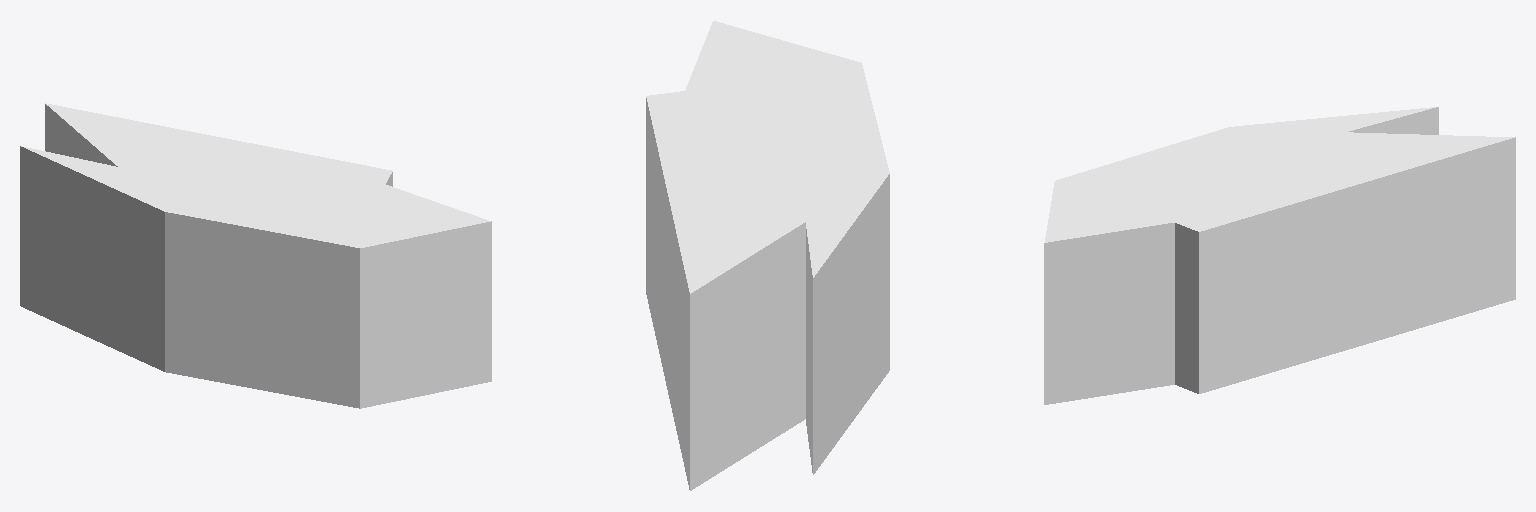
robot.urdf — 3:
<?xml version="1.0" ?>
<robot name="3">
  <link concave="yes" name="baseLink">
    <contact>
    	<friction_anchor/>
    	   <lateral_friction value="1.0"/>
    </contact>
    <inertial>
      <origin rpy="0 0 0" xyz="0 0 0"/>
       <!-- mass controls penetration -->
       <mass value=".1"/>
       <inertia ixx="1e-4" ixy="0" ixz="0" iyy="1e-4" iyz="0" izz="1e-4"/>
    </inertial>
    <visual>
      <origin rpy="0 0 0" xyz="0 0 0"/>
      <geometry>
        <mesh filename="package://object_datasets/Tandem2D/meshes/3.obj"/>
      </geometry>
       <material name="white">
        <color rgba="1 1 1 1"/>
      </material>
    </visual>
    <collision>
      <origin rpy="0 0 0" xyz="0 0 0"/>
      <geometry>
        <mesh filename="package://object_datasets/Tandem2D/meshes/3.obj"/>
      </geometry>
    </collision>
  </link>
</robot>

--- What the picture shows (computed from the rendered views, not written in the file) ---
The picture shows the robot from 3 angles, left to right: view 1: azimuth 30°, elevation 25°; view 2: azimuth 150°, elevation 25°; view 3: azimuth 270°, elevation 25°; orthographic projection.
Model 3 with 1 links and 0 joints (none), rooted at baseLink, posed every joint at zero.
Links seen in each view (by area): view 1: baseLink; view 2: baseLink; view 3: baseLink.
Boxes of the visible links, box(x1,y1,x2,y2) form: baseLink: box(20, 103, 491, 408); baseLink: box(646, 21, 889, 490); baseLink: box(1044, 107, 1515, 404).
Size in the robot's own frame: 0.1351 by 0.1973 by 0.075 metres.
Meshes: 1 distinct files referenced, 1 mesh visuals loaded (1 OBJ).
